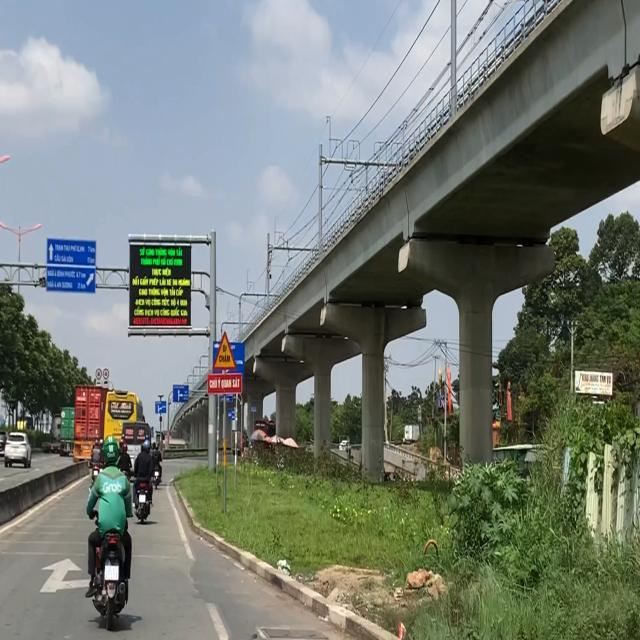Nguy hiem: (212, 330, 238, 372)
